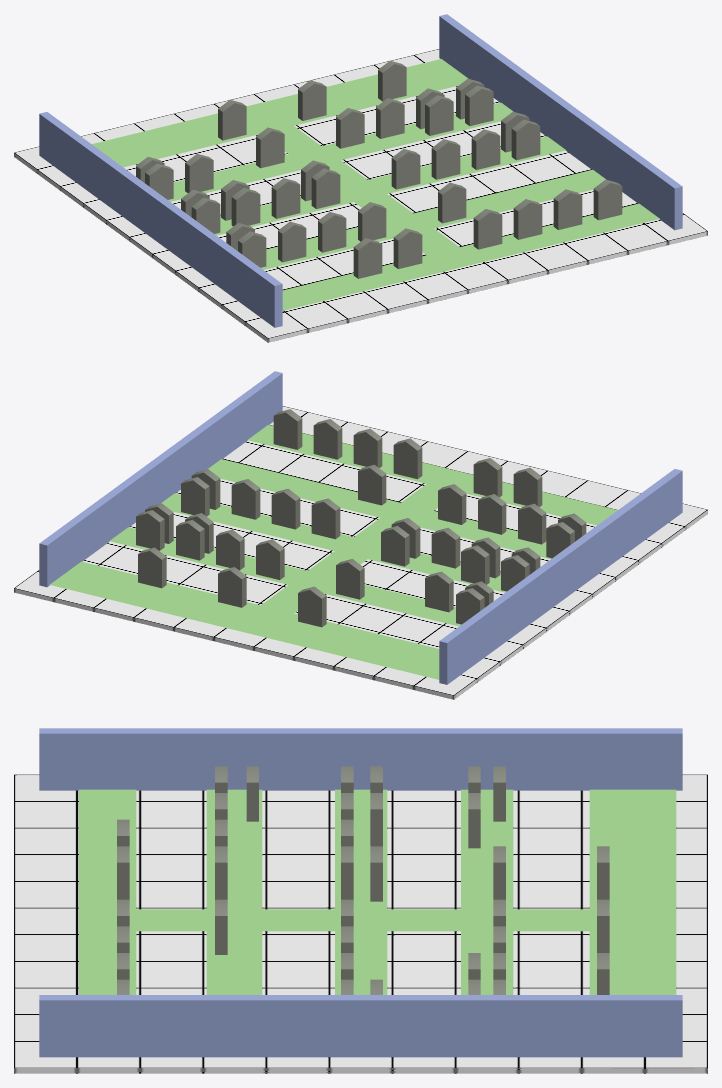
The model's file is XG_Sexton.glb.
3 renders of one model, top to bottom at view 1: azimuth 30°, elevation 25°; view 2: azimuth 150°, elevation 25°; view 3: azimuth 270°, elevation 25°, orthographic. The views are drawn at different scales.
Visible parts, largest first — view 1: ground_11_x_11_026, Plane037, Box800, Box799, grave-plate079, grave-plate081, grave-plate083, grave-plate084, grave-plate093, grave-plate094, grave-plate096, grave-plate098 (+24 smaller); view 2: ground_11_x_11_026, Plane037, Box800, Box799, grave-plate080, grave-plate094, grave-plate082, grave-plate084, grave-plate093, grave-plate081, grave-plate096, grave-plate066 (+24 smaller); view 3: ground_11_x_11_026, Plane037, Box799, Box800, grave-plate070, grave-plate073, grave-plate076, grave-plate087, grave-plate088, grave-plate063, grave-plate064, grave-plate069 (+5 smaller).
Part boxes in pixels (x1=…): ground_11_x_11_026: x1=14, y1=49, x2=707, y2=342; Plane037: x1=92, y1=59, x2=659, y2=310; Box800: x1=39, y1=112, x2=282, y2=327; Box799: x1=439, y1=14, x2=682, y2=230; grave-plate079: x1=511, y1=119, x2=540, y2=160; grave-plate081: x1=431, y1=139, x2=460, y2=179; grave-plate083: x1=311, y1=168, x2=340, y2=208; grave-plate084: x1=271, y1=178, x2=300, y2=218; grave-plate093: x1=593, y1=179, x2=622, y2=220; grave-plate094: x1=553, y1=189, x2=582, y2=229; grave-plate096: x1=473, y1=209, x2=502, y2=249; grave-plate098: x1=353, y1=238, x2=382, y2=278; ground_11_x_11_026: x1=14, y1=406, x2=707, y2=699; Plane037: x1=50, y1=425, x2=617, y2=679; Box800: x1=439, y1=469, x2=682, y2=684; Box799: x1=39, y1=371, x2=282, y2=587; grave-plate080: x1=231, y1=479, x2=260, y2=519; grave-plate094: x1=313, y1=419, x2=342, y2=459; grave-plate082: x1=311, y1=498, x2=340, y2=539; grave-plate084: x1=431, y1=527, x2=460, y2=568; grave-plate093: x1=273, y1=409, x2=302, y2=449; grave-plate081: x1=271, y1=488, x2=300, y2=529; grave-plate096: x1=393, y1=438, x2=422, y2=479; grave-plate066: x1=176, y1=519, x2=204, y2=560; ground_11_x_11_026: x1=14, y1=774, x2=707, y2=1073; Plane037: x1=79, y1=789, x2=676, y2=994; Box799: x1=39, y1=995, x2=682, y2=1057; Box800: x1=39, y1=728, x2=682, y2=790; grave-plate070: x1=493, y1=766, x2=505, y2=821; grave-plate073: x1=468, y1=793, x2=480, y2=848; grave-plate076: x1=370, y1=846, x2=382, y2=901; grave-plate087: x1=246, y1=766, x2=258, y2=821; grave-plate088: x1=215, y1=899, x2=227, y2=954; grave-plate063: x1=597, y1=899, x2=609, y2=952; grave-plate064: x1=597, y1=846, x2=609, y2=899; grave-plate069: x1=493, y1=846, x2=505, y2=899.
Size of the model in its own units: 11 by 1.1 by 11.
4 materials, 1 textured.
